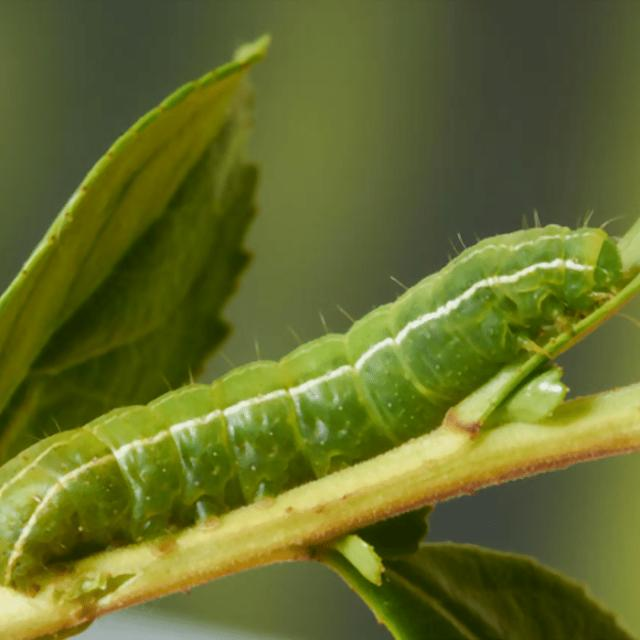looper: (0, 215, 623, 598)
